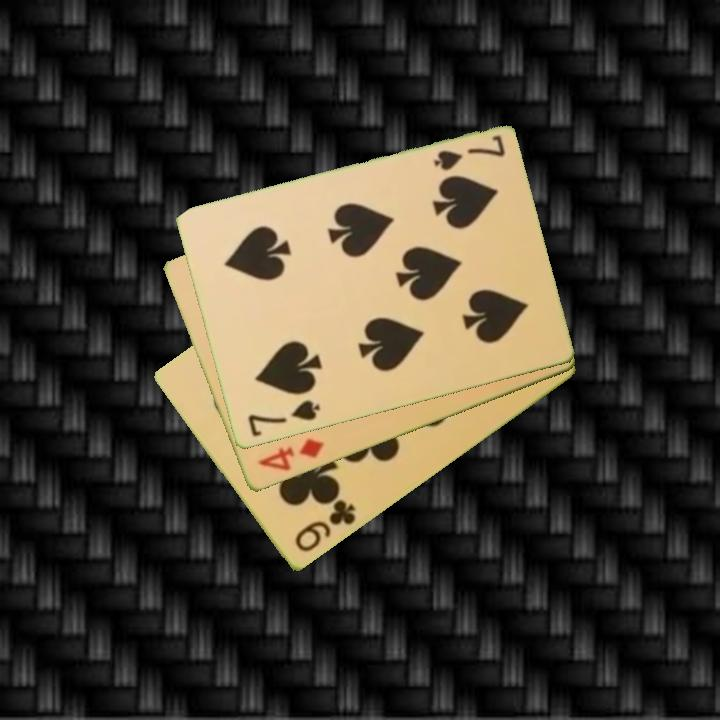4d: (254, 435, 327, 475)
7s: (244, 397, 323, 440), (430, 132, 508, 174)
9c: (291, 496, 359, 556)
